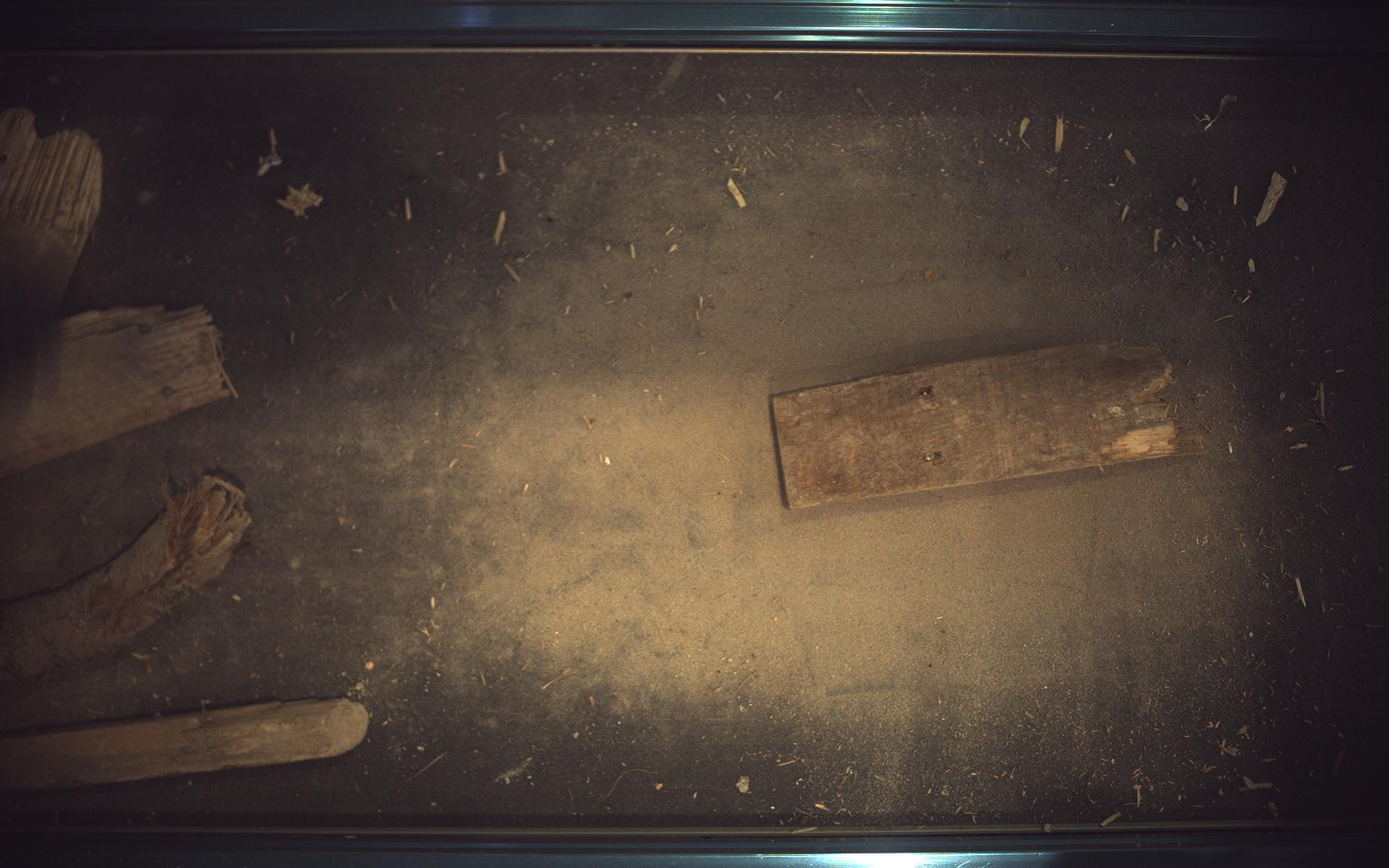wood: (773, 341, 1207, 509)
